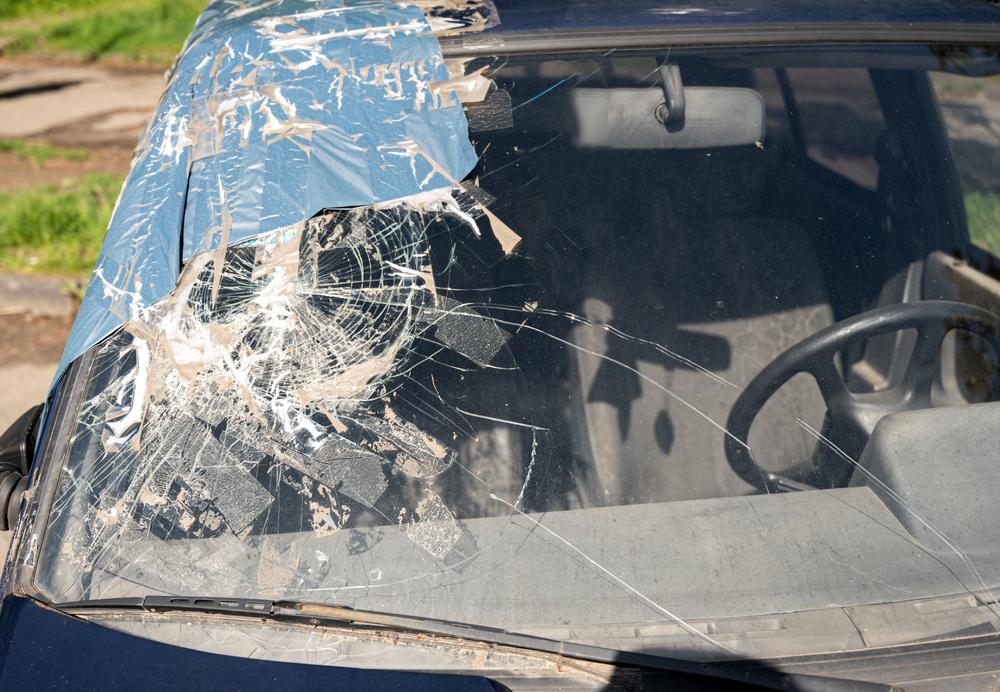glass shatter: (33, 44, 1000, 653)
